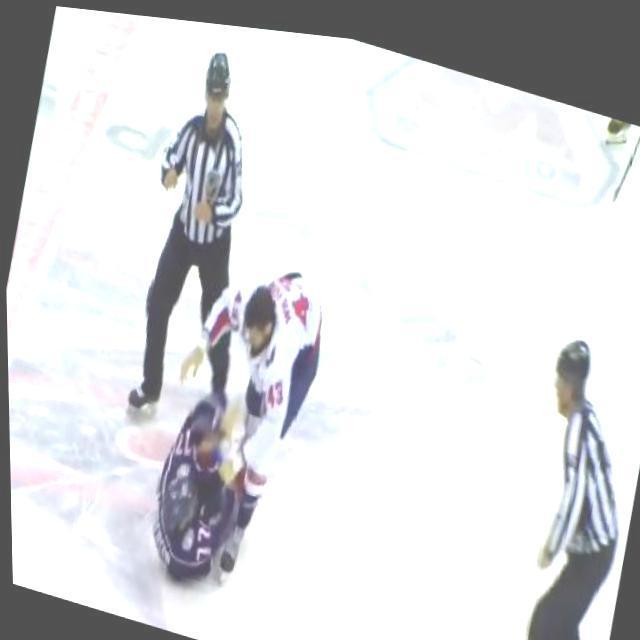fight: (130, 228, 342, 612)
